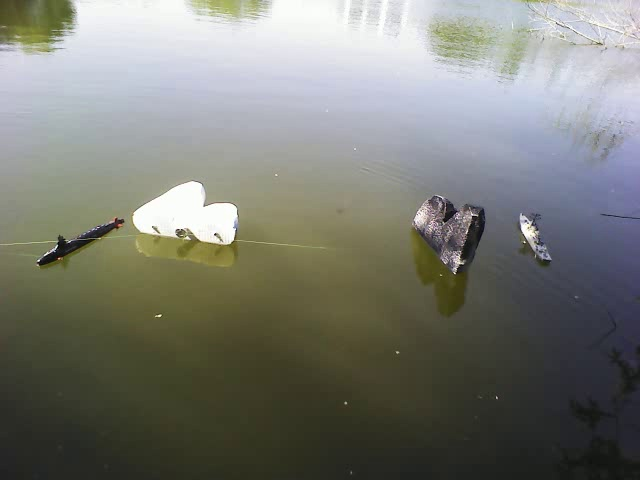iceberg: (132, 180, 238, 246)
rock: (412, 193, 489, 277)
submarine: (38, 214, 125, 266)
warship: (516, 209, 556, 264)
